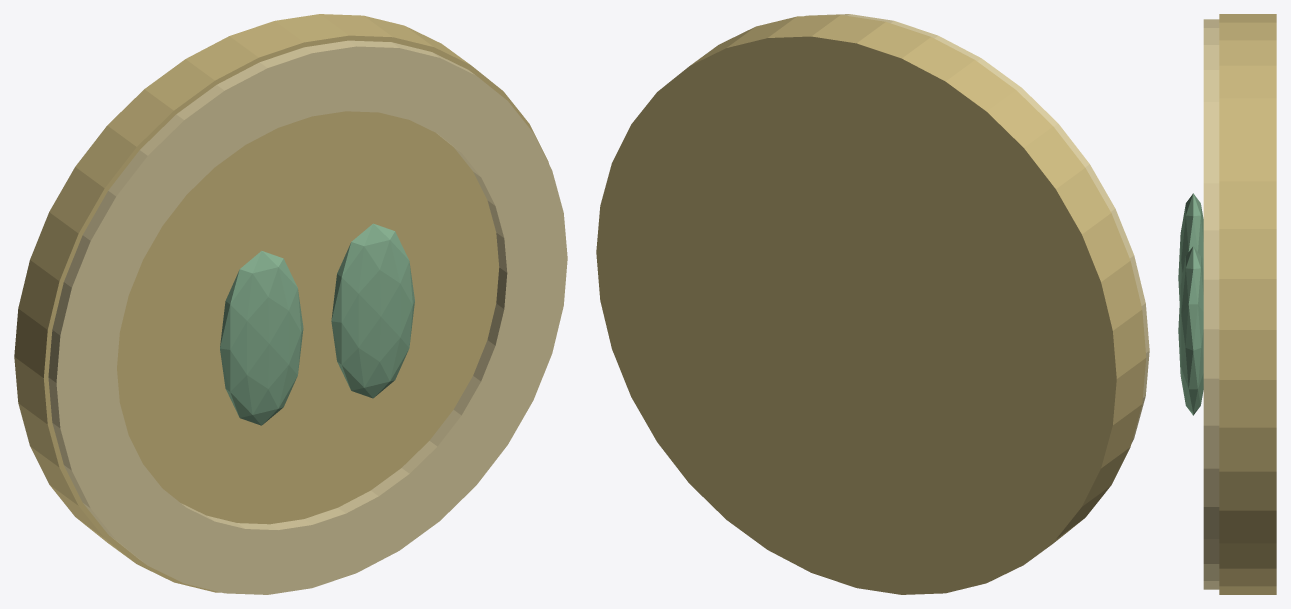
File: outcome-medal-high.glb
3 views of the same model, side by side, from view 1: azimuth 30°, elevation 25°; view 2: azimuth 150°, elevation 25°; view 3: azimuth 270°, elevation 25° (orthographic). The views are drawn at different scales.
Parts seen in each view (by area): view 1: medal, ring, leaf-1, leaf-2; view 2: medal, ring; view 3: medal, ring, leaf-2, leaf-1.
Boxes of the visible parts, box(x1,y1,x2,y2) form: medal: box(14, 14, 548, 592); ring: box(48, 40, 567, 594); leaf-1: box(220, 251, 303, 425); leaf-2: box(331, 223, 414, 398); medal: box(596, 15, 1146, 594); ring: box(804, 14, 1149, 443); medal: box(1219, 14, 1276, 594); ring: box(1203, 19, 1219, 589); leaf-2: box(1178, 246, 1203, 415); leaf-1: box(1178, 193, 1203, 300).
Size of the model in its own units: 1.12 by 1.12 by 0.1888.
